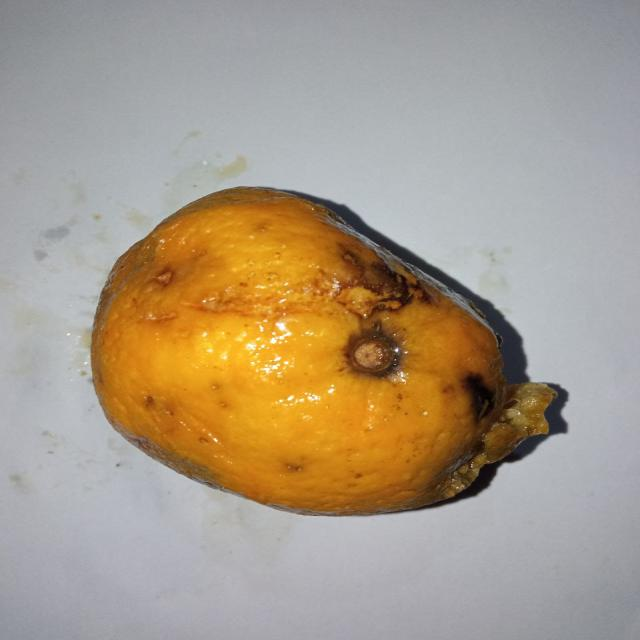rotten_orange: (89, 190, 548, 512)
